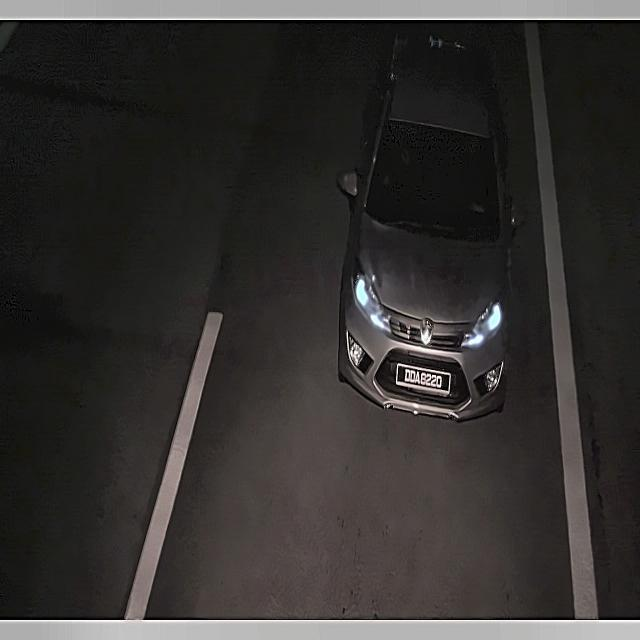car: (392, 358, 455, 398)
